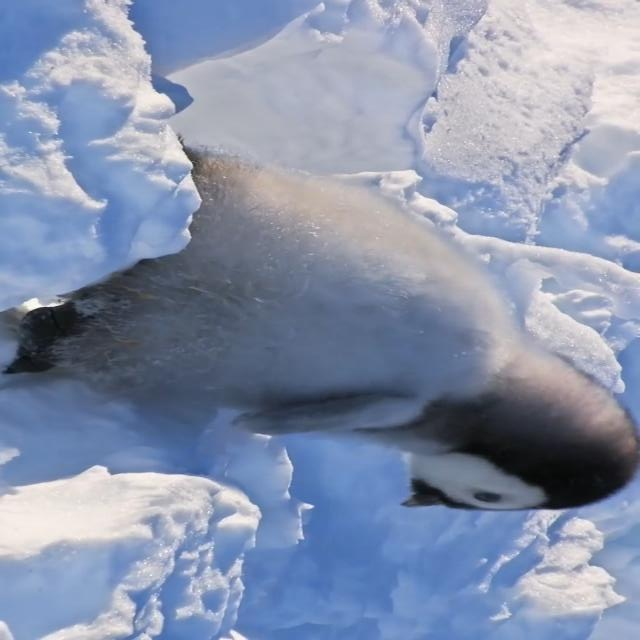penguin: (4, 141, 639, 507)
